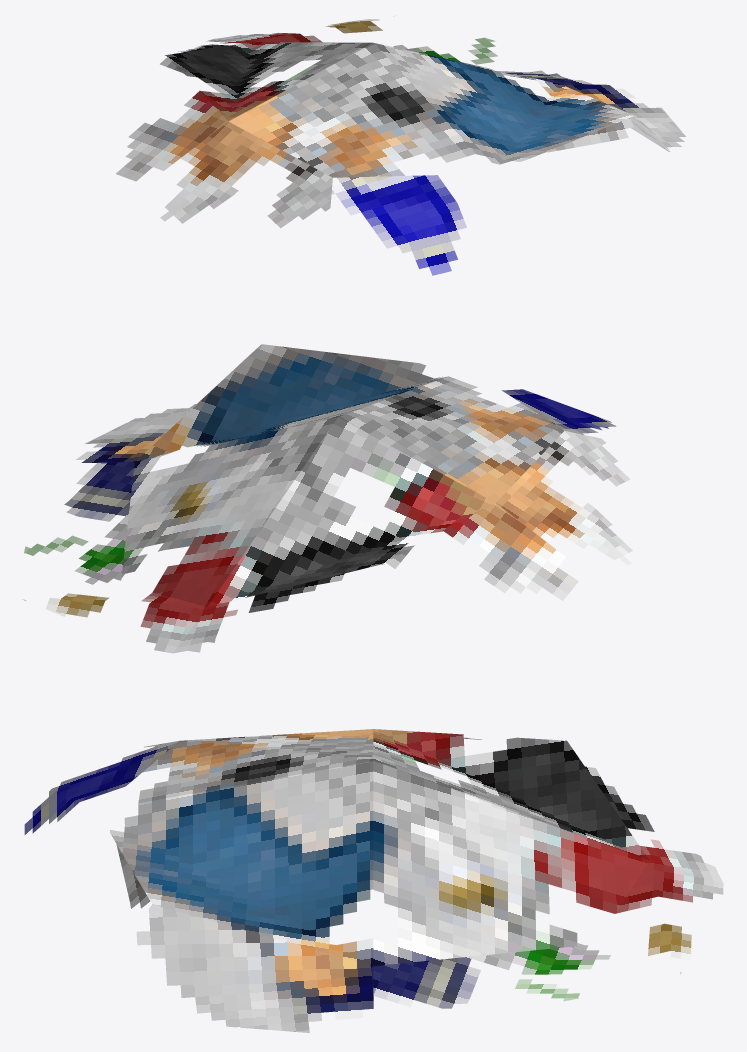
The model's file is Pile.fbx.
3 views of the same model, one above another, from view 1: azimuth 30°, elevation 25°; view 2: azimuth 150°, elevation 25°; view 3: azimuth 270°, elevation 25° (orthographic). The views are drawn at different scales.
Parts seen in each view (by area): view 1: Pile; view 2: Pile; view 3: Pile.
Part boxes in pixels (bbox=[...]): Pile: bbox=[116, 15, 685, 275]; Pile: bbox=[22, 344, 632, 653]; Pile: bbox=[24, 729, 723, 1032].
Size of the model in its own units: 162 by 31.25 by 162.
1 material, 1 textured.
